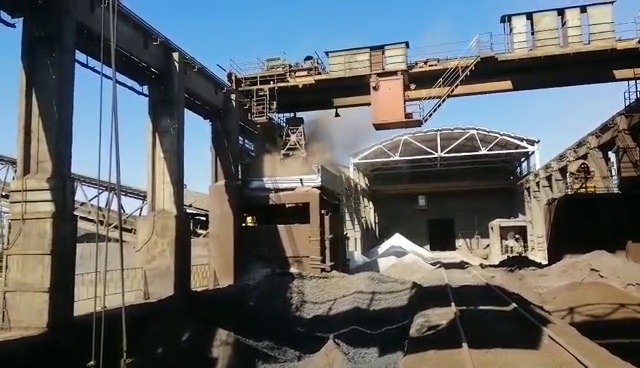dust: (259, 120, 411, 182)
grab: (278, 113, 310, 161)
